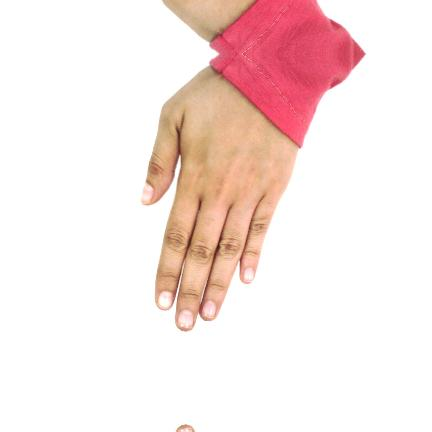Nail: (177, 310, 194, 328), (157, 291, 173, 310), (140, 184, 154, 204), (202, 301, 216, 318), (243, 268, 254, 283), (177, 428, 193, 432)
